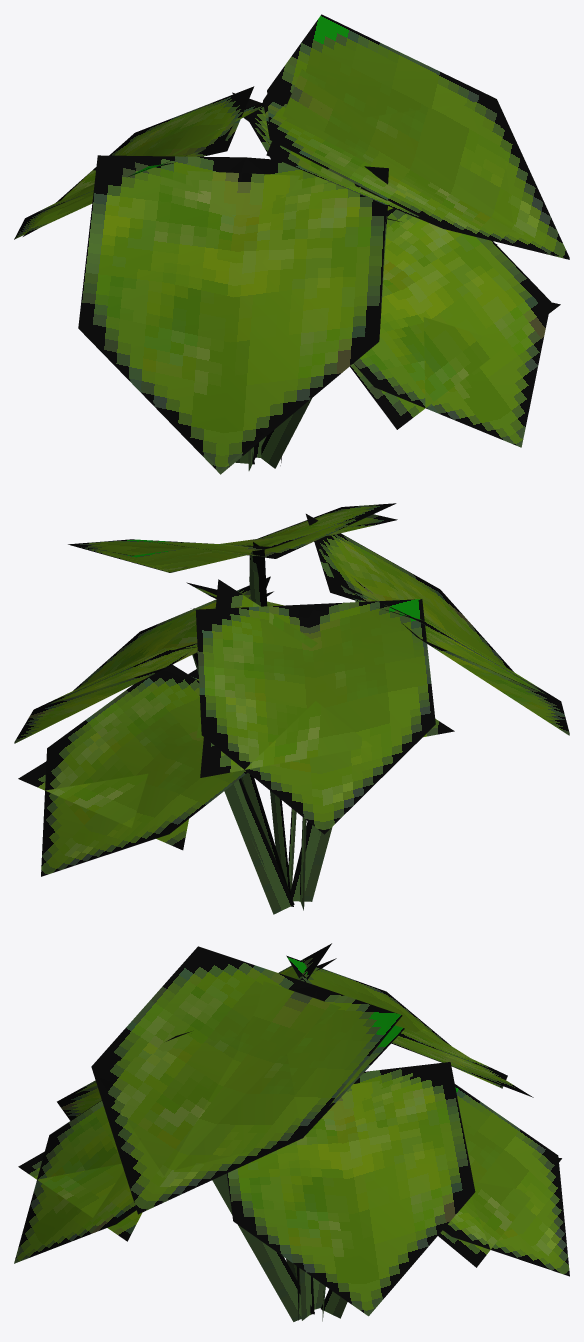
Rendered from plants_un_plant04_green.gltf.
The picture shows the model from 3 angles, top to bottom: view 1: azimuth 30°, elevation 25°; view 2: azimuth 150°, elevation 25°; view 3: azimuth 270°, elevation 25°; orthographic projection. The views are drawn at different scales.
Parts seen in each view (by area): view 1: um_plants_un_plant04_green_model_lod0Shape:plants_un_plant04, um_plants_un_plant04_green_model_lod1Shape:plants_un_plant04, um_plants_un_plant04_green_model_lod2Shape:plants_un_plant04; view 2: um_plants_un_plant04_green_model_lod0Shape:plants_un_plant04, um_plants_un_plant04_green_model_lod2Shape:plants_un_plant04, um_plants_un_plant04_green_model_lod1Shape:plants_un_plant04; view 3: um_plants_un_plant04_green_model_lod0Shape:plants_un_plant04, um_plants_un_plant04_green_model_lod1Shape:plants_un_plant04, um_plants_un_plant04_green_model_lod2Shape:plants_un_plant04.
Boxes of the visible parts, bbox=[...] form: um_plants_un_plant04_green_model_lod0Shape:plants_un_plant04: bbox=[14, 86, 569, 473]; um_plants_un_plant04_green_model_lod1Shape:plants_un_plant04: bbox=[14, 14, 569, 473]; um_plants_un_plant04_green_model_lod2Shape:plants_un_plant04: bbox=[23, 69, 569, 474]; um_plants_un_plant04_green_model_lod0Shape:plants_un_plant04: bbox=[14, 504, 569, 914]; um_plants_un_plant04_green_model_lod2Shape:plants_un_plant04: bbox=[14, 514, 569, 850]; um_plants_un_plant04_green_model_lod1Shape:plants_un_plant04: bbox=[14, 503, 569, 907]; um_plants_un_plant04_green_model_lod0Shape:plants_un_plant04: bbox=[14, 943, 569, 1321]; um_plants_un_plant04_green_model_lod1Shape:plants_un_plant04: bbox=[14, 944, 569, 1320]; um_plants_un_plant04_green_model_lod2Shape:plants_un_plant04: bbox=[18, 958, 561, 1316].
Bounding box in the file's own units: 0.3185 × 0.2438 × 0.3449.
1 material, 1 textured.
